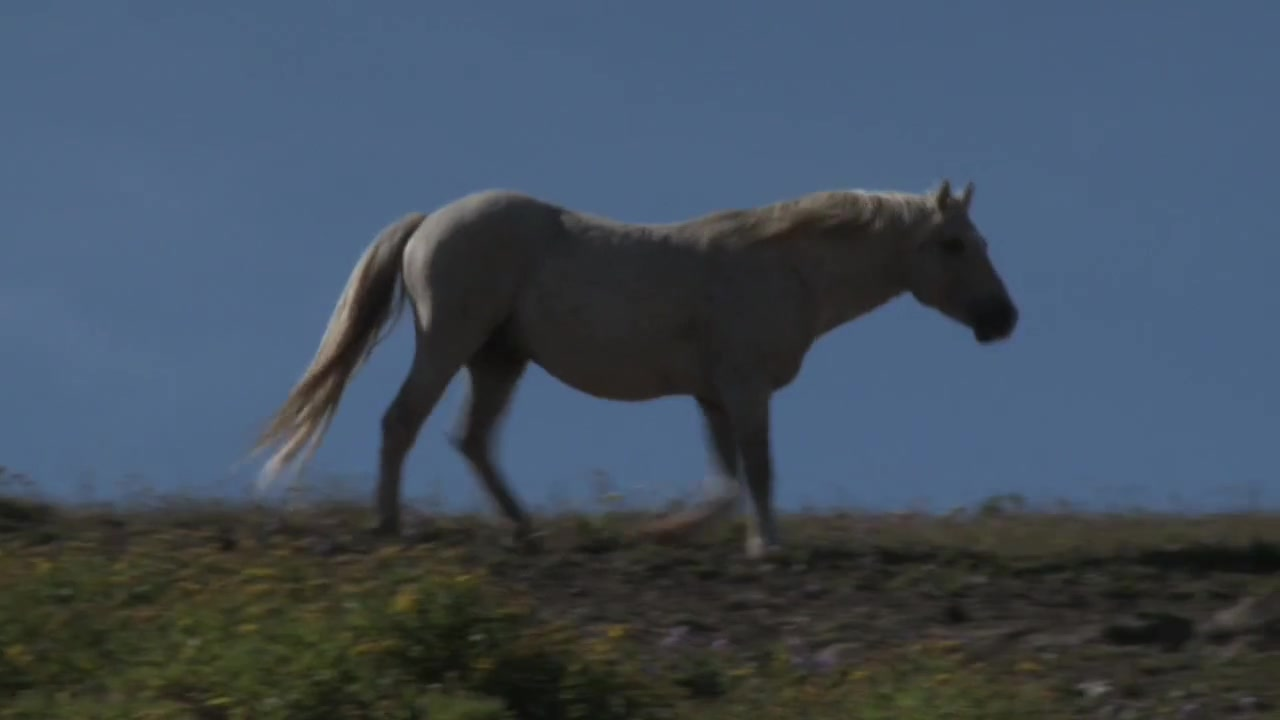horse: (252, 176, 1022, 563)
